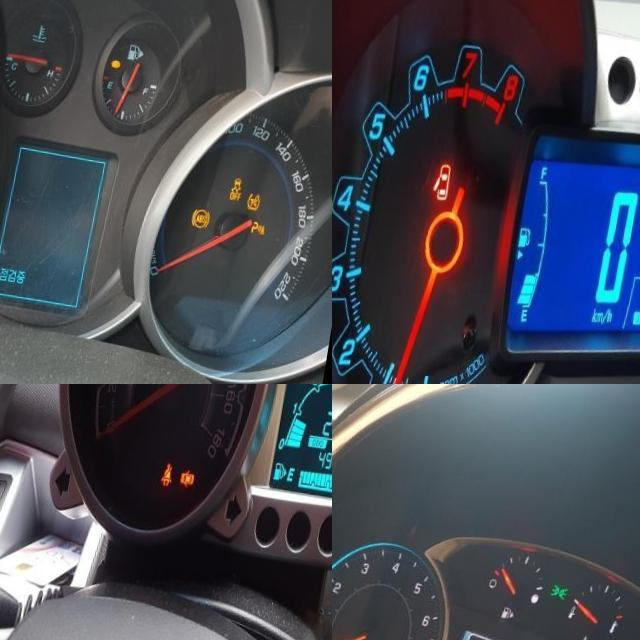SideLamp: (556, 574, 579, 593)
